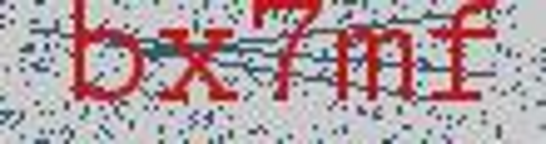7: (241, 2, 326, 110)
b: (59, 1, 149, 109)
f: (421, 1, 504, 113)
m: (333, 17, 420, 111)
x: (153, 22, 239, 108)
